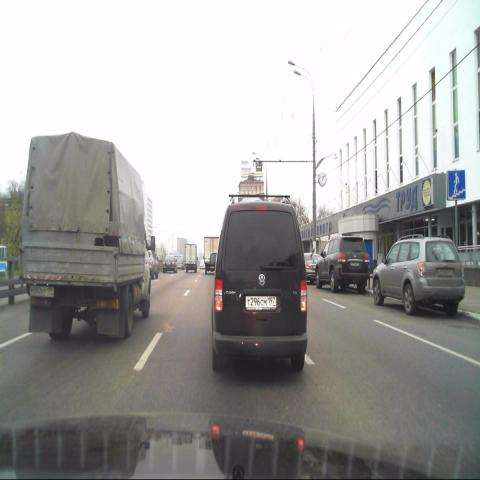6_6: (446, 171, 466, 200)
